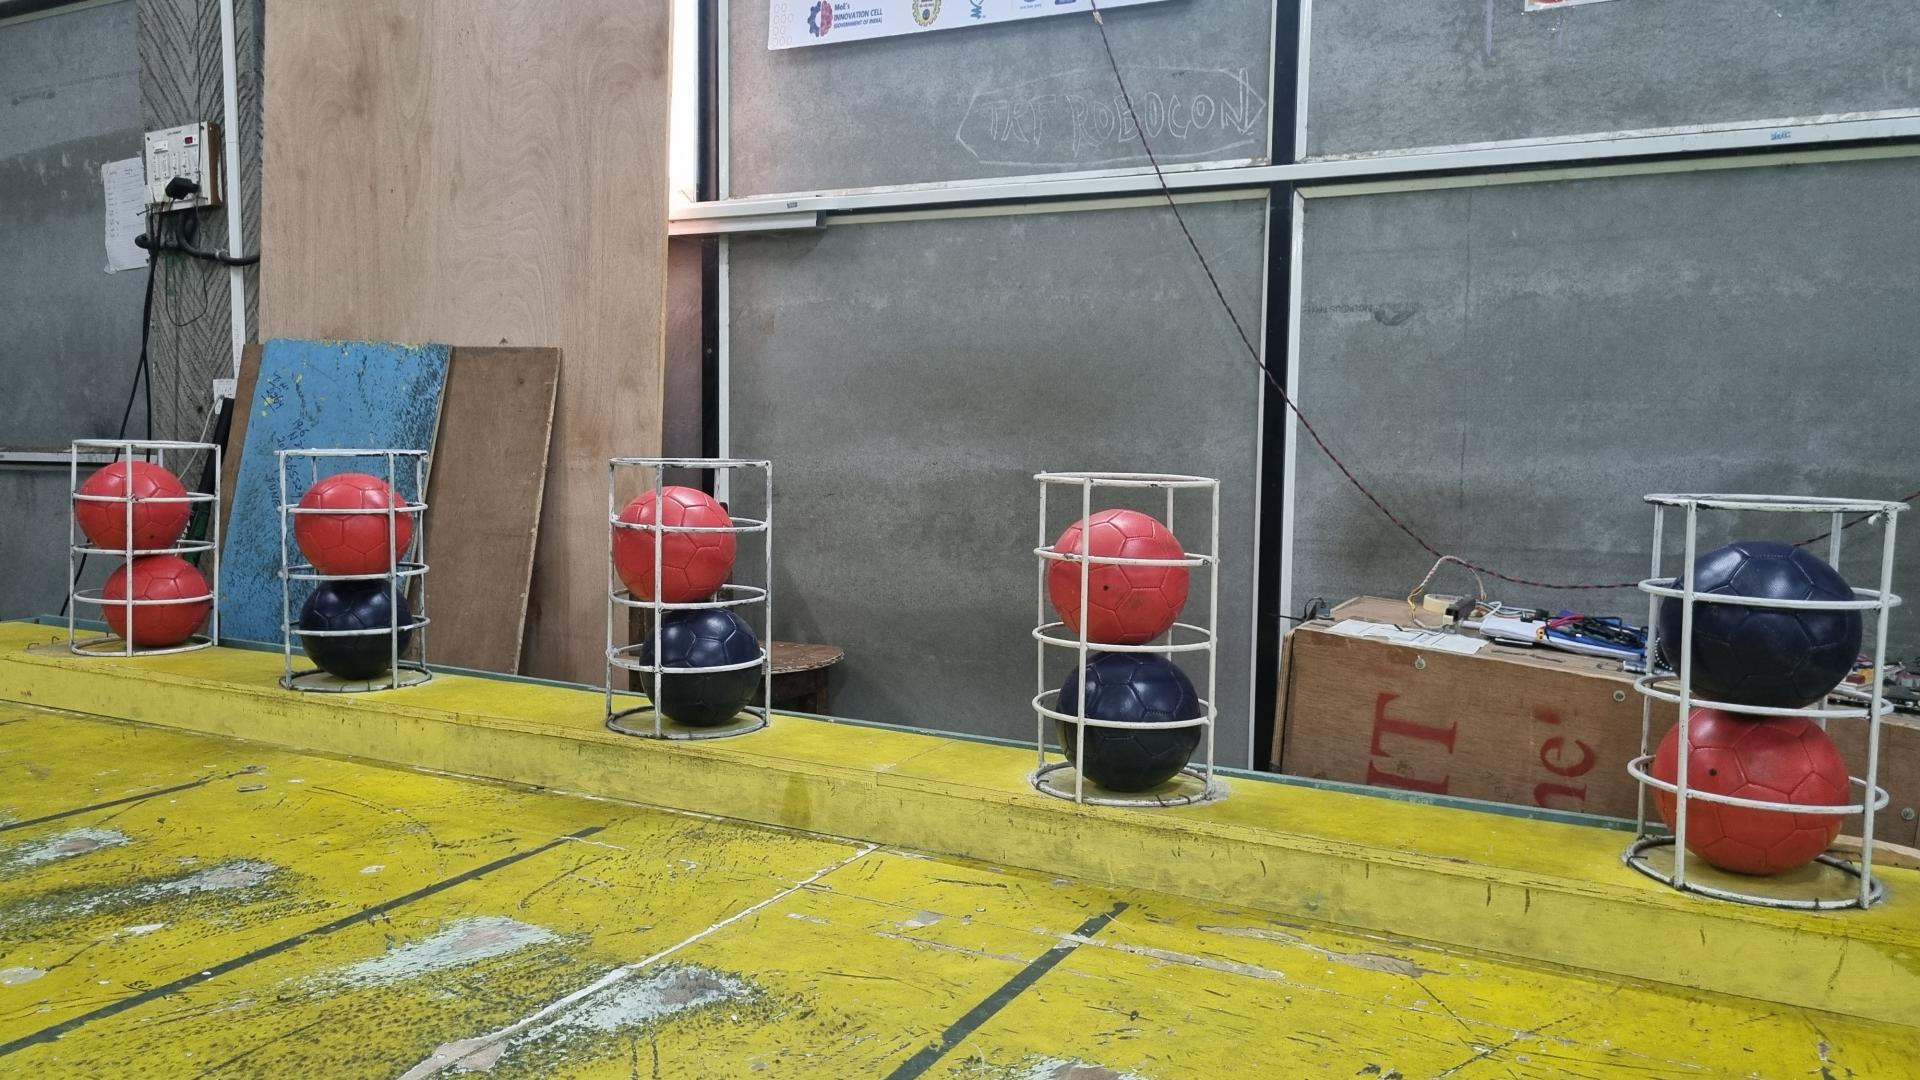dhoka: (1658, 541, 1859, 709), (1055, 650, 1201, 796), (640, 609, 764, 729), (301, 578, 413, 678)
laale: (1654, 704, 1851, 873), (1050, 509, 1192, 647), (612, 487, 736, 607), (297, 475, 417, 576), (73, 460, 190, 554), (104, 555, 212, 649)
